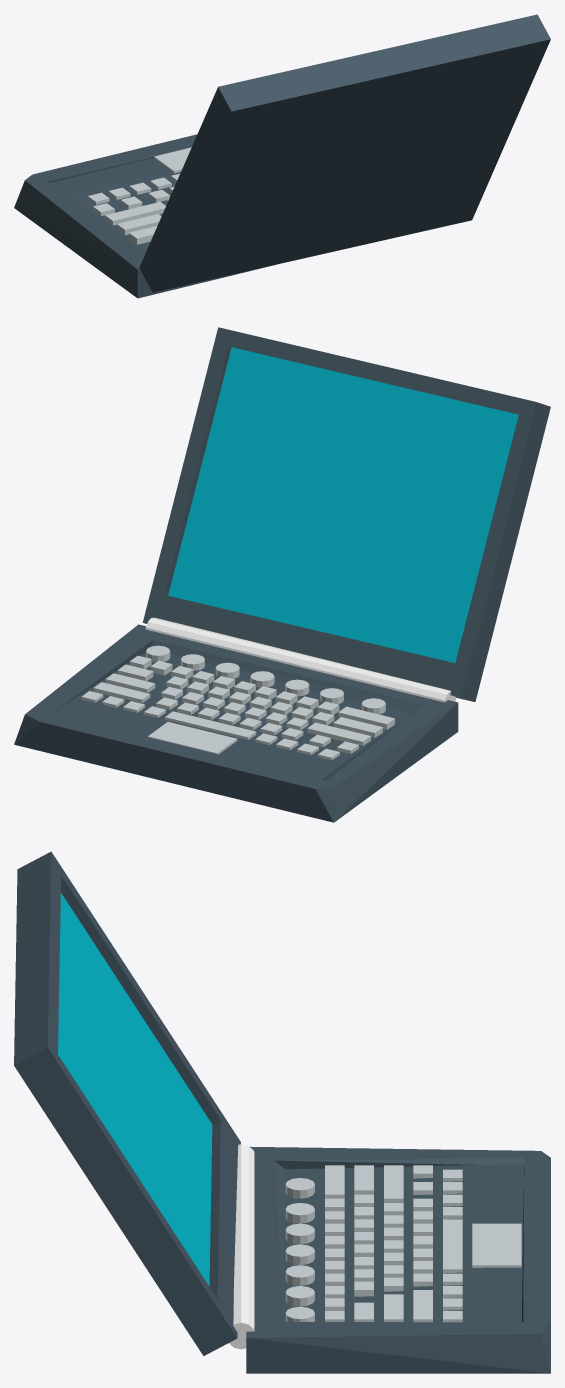
File: Basic Laptop.glb
3 views of the same model, one above another, from view 1: azimuth 30°, elevation 25°; view 2: azimuth 150°, elevation 25°; view 3: azimuth 270°, elevation 25° (orthographic). The views are drawn at different scales.
Visible parts, largest first — view 1: Node; view 2: Node; view 3: Node.
Boxes of the visible parts, x1,y1,x2,y2 form: Node: [14, 14, 550, 298]; Node: [14, 327, 550, 822]; Node: [14, 851, 550, 1373].
Size of the model in its own units: 0.4632 by 0.3723 by 0.5461.
